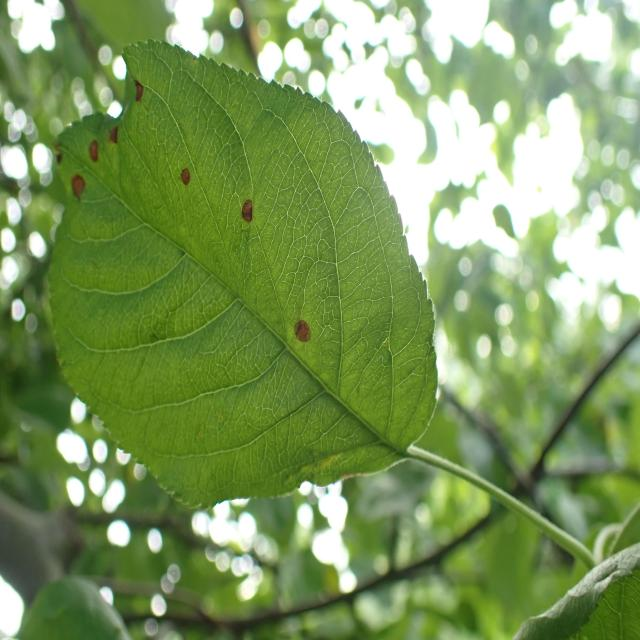Black Rot: (284, 295, 314, 380), (236, 184, 265, 248), (62, 162, 88, 226), (127, 66, 153, 124), (102, 104, 125, 164), (83, 130, 102, 192), (178, 156, 205, 198)
